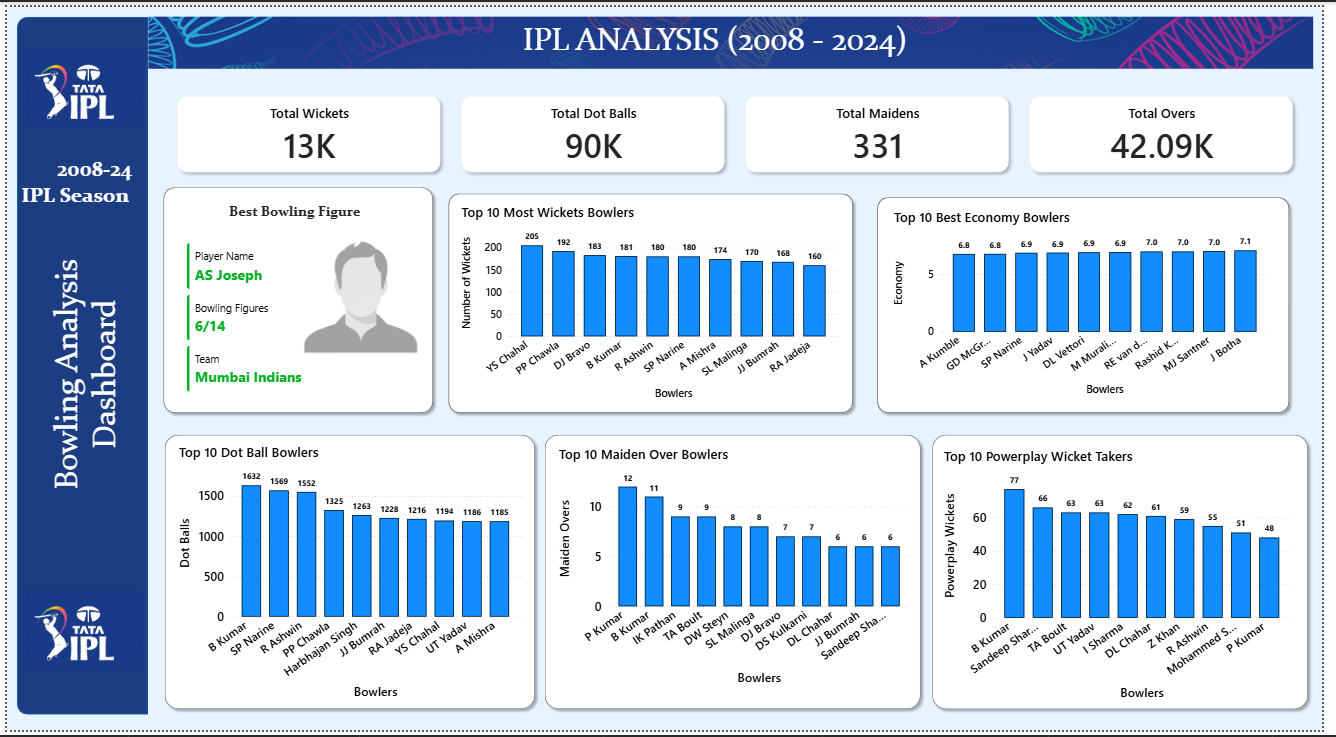

What the dashboard file says about the page in this screenshot:
{"tool":"powerbi","page":{"name":"Bowling Analysis Dashboard","canvas":[2000,1100],"ordinal":2},"visuals":[{"type":"shape","box":[1398.8,642.4,587.3,433.3],"z":0},{"type":"shape","box":[810.5,643.2,587.5,433.1],"z":1000},{"type":"shape","box":[231.6,643.2,578.9,433.1],"z":2000},{"type":"shape","box":[1315.1,281.3,642.4,344],"z":3000},{"type":"shape","box":[663.3,275.6,631,349.7],"z":4000},{"type":"shape","box":[15.2,15.2,199.6,1060.5],"z":5000},{"type":"shape","box":[230,266.1,425.7,359.2],"z":6000},{"type":"image","box":[214.8,1.9,1771.3,104.5],"z":7000},{"type":"textbox","box":[779.2,15.2,600.6,76],"z":8000},{"type":"cardVisual","fields":{"Data":["ipl_analysis deliveries.Wickets","ipl_analysis deliveries.Total Dot Balls","ipl_analysis deliveries.Total Maidens","ipl_analysis deliveries.Total Overs"]},"box":[230,106.4,1756.1,174.8],"z":9000},{"type":"cardVisual","fields":{"Data":["ipl_analysis deliveries.Best Bowling Figure Player","ipl_analysis deliveries.Best Bowling Figures","ipl_analysis deliveries.Best Bowling Figure Team"]},"box":[256.6,342.1,258.5,260.4],"z":10000},{"type":"textbox","box":[332.6,292.7,214.8,43.7],"z":11000},{"type":"shape","box":[36.1,326.9,165.3,463.7],"z":13000},{"type":"image","box":[26.6,55.1,180.5,138.7],"z":14000},{"type":"image","box":[26.6,878,180.5,138.7],"z":15000},{"type":"textbox","box":[17.1,222.4,231.9,104.5],"z":16000},{"type":"columnChart","title":"Top 10 Most Wickets Bowlers","fields":{"Category":["ipl_analysis deliveries.bowler"],"Y":["ipl_analysis deliveries.Wick"]},"box":[686.1,298.4,583.5,304.1],"z":17000},{"type":"columnChart","title":"Top 10 Best Economy Bowlers","fields":{"Category":["ipl_analysis deliveries.bowler"],"Y":["ipl_analysis deliveries.Qualified Economy"]},"box":[1344.3,306.6,581,289.5],"z":18000},{"type":"columnChart","title":"Top 10 Dot Ball Bowlers","fields":{"Category":["ipl_analysis deliveries.bowler"],"Y":["ipl_analysis deliveries.Dot Balls"]},"box":[257.3,662.5,529.6,394.5],"z":19000},{"type":"columnChart","title":"Top 10 Maiden Over Bowlers","fields":{"Category":["ipl_analysis deliveries.bowler"],"Y":["ipl_analysis deliveries.Maiden Overs"]},"box":[834.1,664.7,544.6,370.9],"z":20000},{"type":"columnChart","title":"Top 10 Powerplay Wicket Takers","fields":{"Category":["ipl_analysis deliveries.bowler"],"Y":["ipl_analysis deliveries.Powerplay Wickets"]},"box":[1419.7,669,537.8,389.6],"z":21000},{"type":"image","box":[440.9,321.2,191.9,237.6],"z":21001}]}

Visuals, with their boxes in screenshot pixels (x1, y1, x2, y2), scaled from the page's 2000x1100 canvas onto the 1336x737 screenshot:
shape: x1=934, y1=430, x2=1327, y2=721
shape: x1=541, y1=431, x2=934, y2=721
shape: x1=155, y1=431, x2=541, y2=721
shape: x1=878, y1=188, x2=1308, y2=419
shape: x1=443, y1=185, x2=865, y2=419
shape: x1=10, y1=10, x2=143, y2=721
shape: x1=154, y1=178, x2=438, y2=419
image: x1=143, y1=1, x2=1327, y2=71
textbox: x1=521, y1=10, x2=922, y2=61
cardVisual - ipl_analysis deliveries.Wickets x ipl_analysis deliveries.Total Dot Balls: x1=154, y1=71, x2=1327, y2=188
cardVisual - ipl_analysis deliveries.Best Bowling Figure Player x ipl_analysis deliveries.Best Bowling Figures: x1=171, y1=229, x2=344, y2=404
textbox: x1=222, y1=196, x2=366, y2=225
shape: x1=24, y1=219, x2=135, y2=530
image: x1=18, y1=37, x2=138, y2=130
image: x1=18, y1=588, x2=138, y2=681
textbox: x1=11, y1=149, x2=166, y2=219
"Top 10 Most Wickets Bowlers" columnChart: x1=458, y1=200, x2=848, y2=404
"Top 10 Best Economy Bowlers" columnChart: x1=898, y1=205, x2=1286, y2=399
"Top 10 Dot Ball Bowlers" columnChart: x1=172, y1=444, x2=526, y2=708
"Top 10 Maiden Over Bowlers" columnChart: x1=557, y1=445, x2=921, y2=694
"Top 10 Powerplay Wicket Takers" columnChart: x1=948, y1=448, x2=1308, y2=709
image: x1=295, y1=215, x2=423, y2=374
